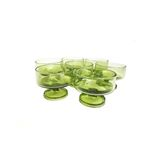cups: (72, 65, 120, 110), (31, 55, 76, 103)
